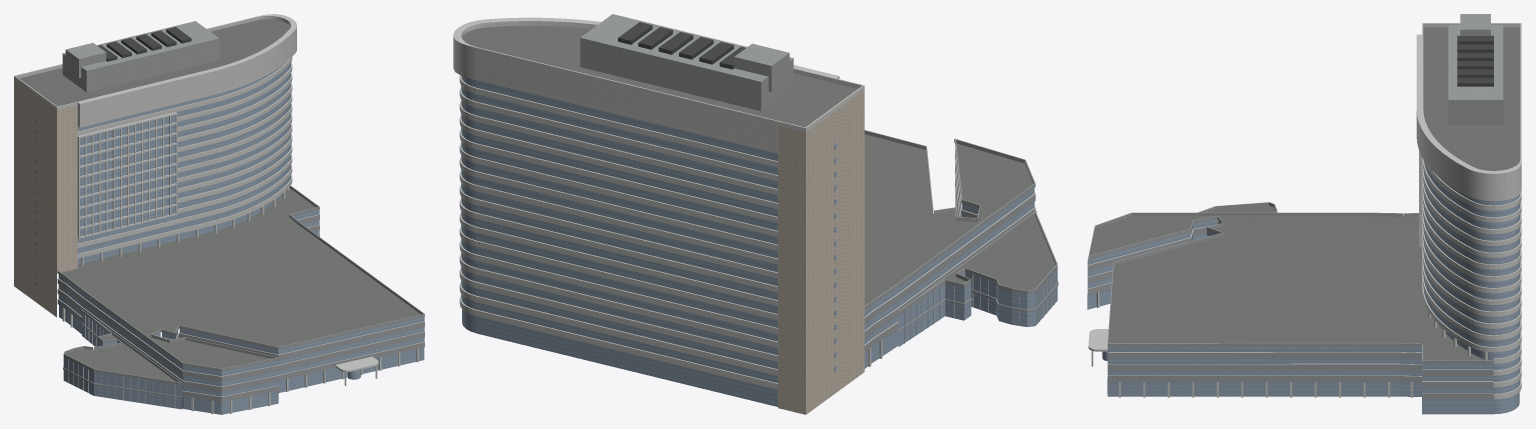
3 views of the same model, side by side, from view 1: azimuth 30°, elevation 25°; view 2: azimuth 150°, elevation 25°; view 3: azimuth 270°, elevation 25° (orthographic). The views are drawn at different scales.
Parts seen in each view (by area): view 1: severance-main; view 2: severance-main; view 3: severance-main.
Part boxes in pixels (x1,y1,x2,y2): severance-main: (14,14,424,414); severance-main: (453,14,1058,414); severance-main: (1087,14,1521,414).
Size of the model in its own units: 143 by 98.85 by 142.
7 materials, 5 textured.
